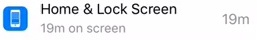name: (36, 1, 183, 18)
time: (40, 21, 66, 37)
